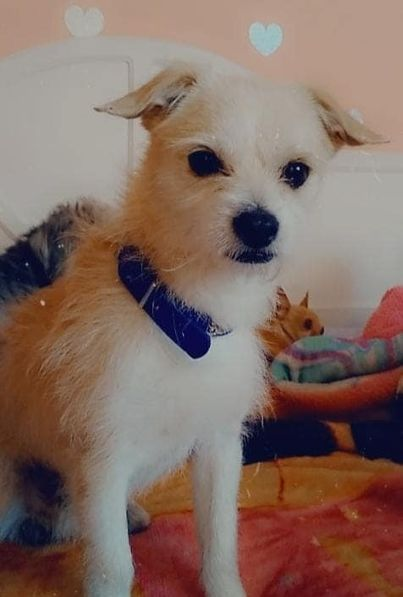dog: (9, 62, 400, 597)
